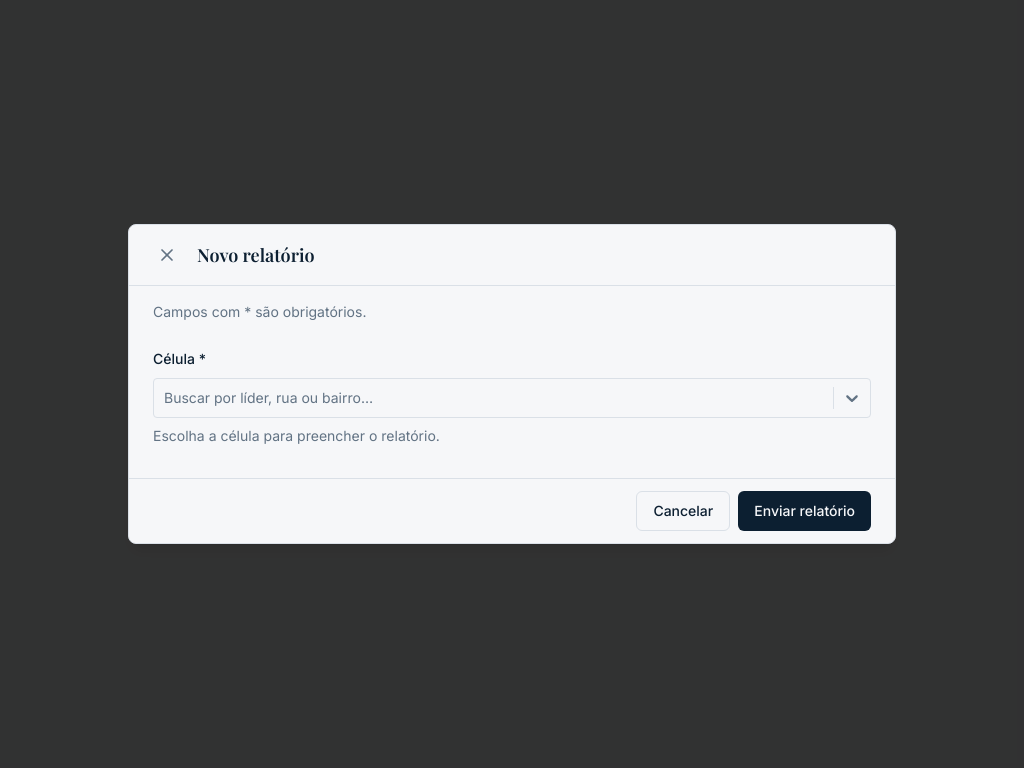
Test: E2.11: o formulário de relatório › UX-04: com a célula livre, antes da escolha só o seletor e a dica; enviar mostra 'Escolha a célula.' sem chamada
Check: the text "Escolha a célula para preencher o relatório." is shown, box left=153, top=427, right=440, bottom=444
Step 1. Click the button "Enviar relatório" → (805, 511), box left=738, top=491, right=871, bottom=531
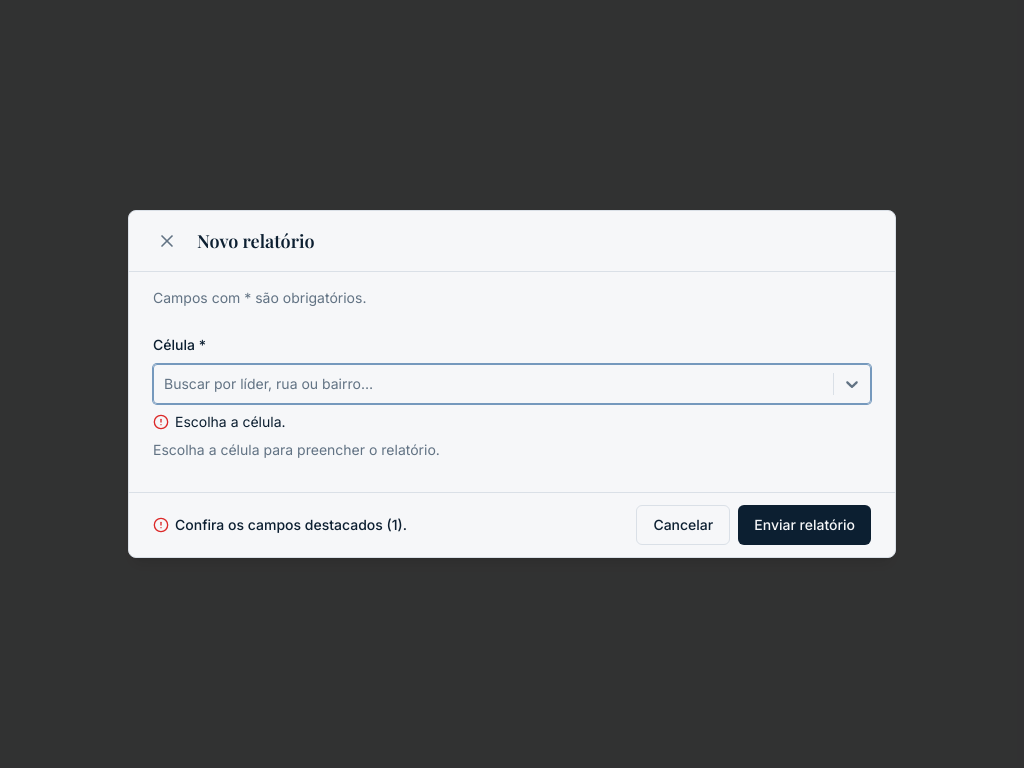
Check: the text "Escolha a célula." is shown, box left=175, top=412, right=286, bottom=432
Check: the text "Confira os campos destacados (1)." is shown, box left=175, top=515, right=407, bottom=535
